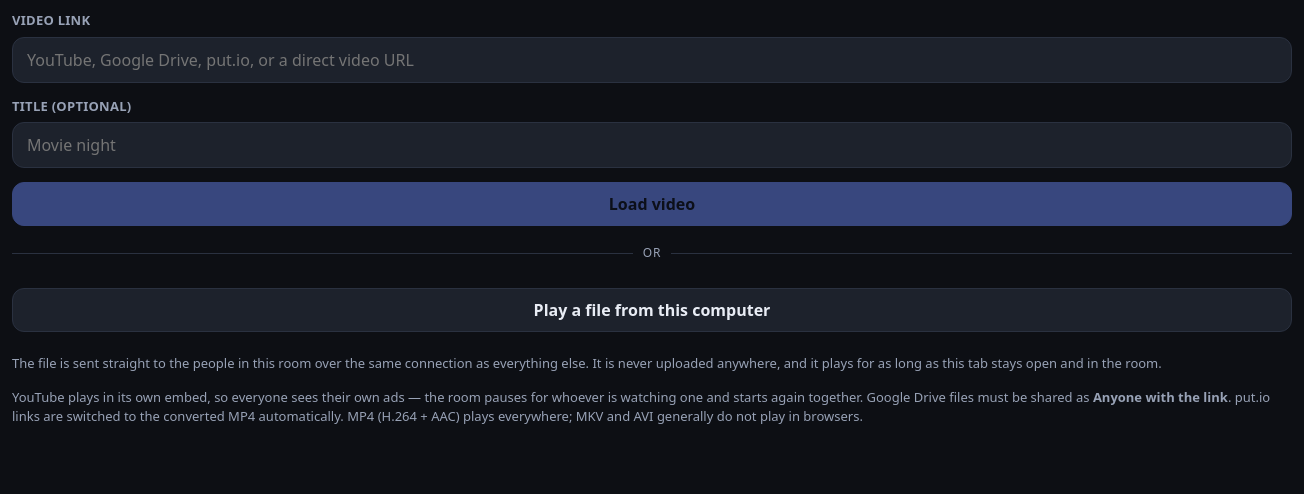
Test: MediaPicker › rejects something that is not a link
Type "not a link" into the field labelled "Video link" at (652, 60), box x1=12 y1=36 x2=1292 y2=82
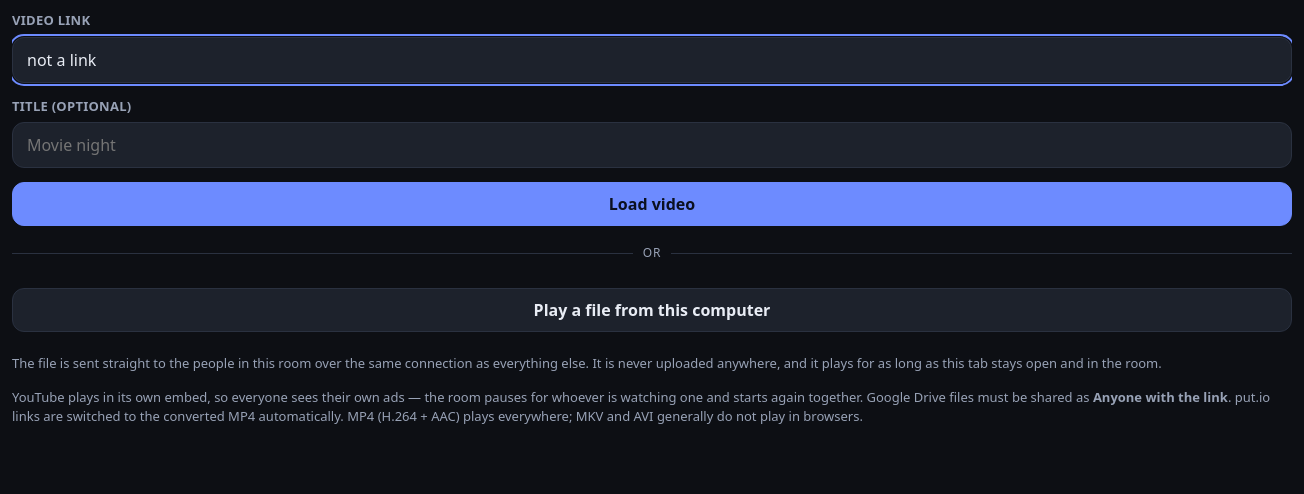
Click the button "Load video" at (652, 204), box x1=12 y1=182 x2=1292 y2=226
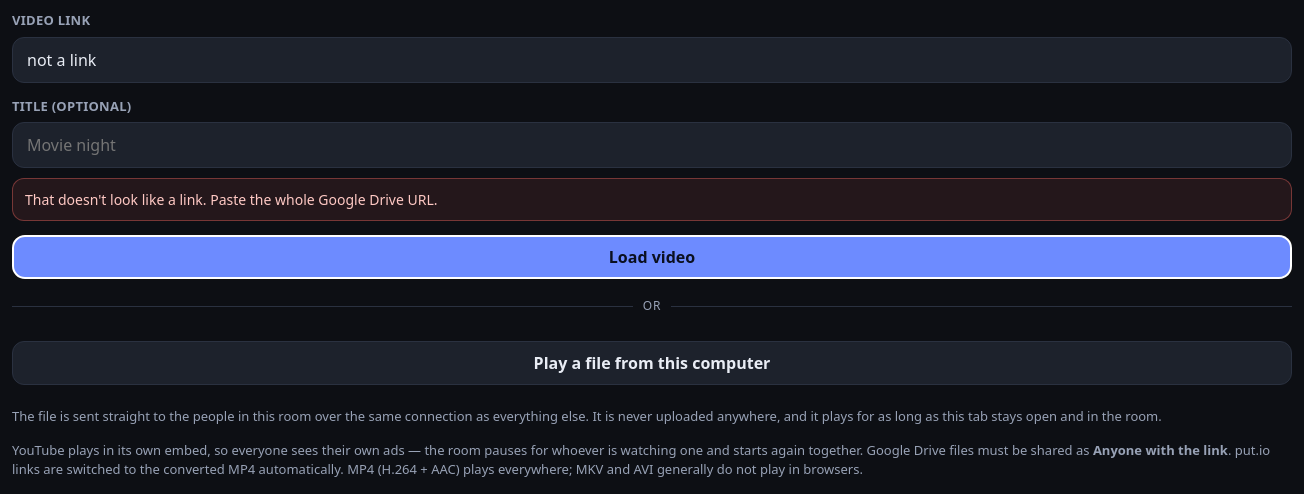
Now the message shows "whole Google Drive URL", box x1=25 y1=190 x2=438 y2=209
